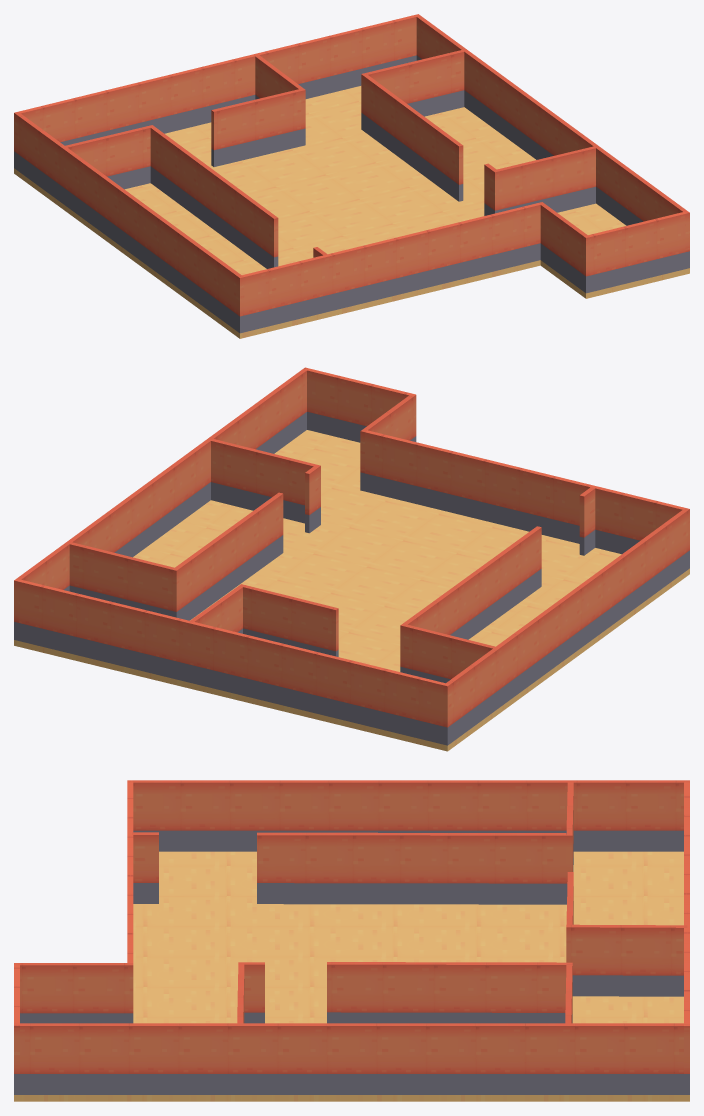
File: Gym_Env.fbx
The picture shows the model from 3 angles, top to bottom: view 1: azimuth 30°, elevation 25°; view 2: azimuth 150°, elevation 25°; view 3: azimuth 270°, elevation 25°; orthographic projection. The views are drawn at different scales.
Visible parts, largest first — view 1: polySurface1, polySurface8, polySurface7, polySurface3, polySurface4, polySurface13, polySurface14, polySurface9, polySurface11, polySurface17, polySurface15, polySurface12 (+3 smaller); view 2: polySurface1, polySurface8, polySurface7, polySurface3, polySurface4, polySurface13, polySurface14, polySurface17, polySurface15, polySurface9, polySurface11, polySurface12 (+4 smaller); view 3: polySurface1, polySurface4, polySurface3, polySurface13, polySurface14, polySurface10, polySurface5, polySurface8, polySurface18, polySurface16, polySurface7, polySurface9 (+1 smaller).
Boxes of the visible parts, x1=… form: polySurface1: x1=14, y1=86, x2=689, y2=338; polySurface8: x1=14, y1=14, x2=420, y2=169; polySurface7: x1=237, y1=203, x2=540, y2=333; polySurface3: x1=14, y1=112, x2=244, y2=332; polySurface4: x1=414, y1=14, x2=689, y2=268; polySurface13: x1=150, y1=127, x2=278, y2=268; polySurface14: x1=363, y1=75, x2=463, y2=201; polySurface9: x1=583, y1=211, x2=689, y2=292; polySurface11: x1=211, y1=88, x2=303, y2=166; polySurface17: x1=492, y1=146, x2=595, y2=212; polySurface15: x1=361, y1=50, x2=464, y2=130; polySurface12: x1=65, y1=125, x2=154, y2=189; polySurface1: x1=14, y1=430, x2=689, y2=751; polySurface8: x1=14, y1=579, x2=450, y2=745; polySurface7: x1=365, y1=430, x2=689, y2=567; polySurface3: x1=443, y1=508, x2=689, y2=745; polySurface4: x1=14, y1=368, x2=306, y2=637; polySurface13: x1=403, y1=526, x2=541, y2=639; polySurface14: x1=175, y1=492, x2=283, y2=620; polySurface17: x1=210, y1=439, x2=320, y2=526; polySurface15: x1=69, y1=542, x2=179, y2=617; polySurface9: x1=303, y1=367, x2=416, y2=442; polySurface11: x1=239, y1=584, x2=338, y2=656; polySurface12: x1=400, y1=623, x2=495, y2=683; polySurface1: x1=14, y1=851, x2=689, y2=1101; polySurface4: x1=14, y1=1023, x2=689, y2=1094; polySurface3: x1=127, y1=780, x2=689, y2=851; polySurface13: x1=257, y1=832, x2=566, y2=904; polySurface14: x1=327, y1=962, x2=566, y2=1023; polySurface10: x1=566, y1=924, x2=687, y2=996; polySurface5: x1=14, y1=963, x2=133, y2=1023; polySurface8: x1=684, y1=780, x2=689, y2=1094; polySurface18: x1=132, y1=832, x2=158, y2=903; polySurface16: x1=238, y1=962, x2=264, y2=1023; polySurface7: x1=127, y1=780, x2=133, y2=962; polySurface9: x1=14, y1=963, x2=19, y2=1094.
Bounding box in the file's own units: 77.25 × 11.1 × 89.79.
3 materials, 3 textured.
